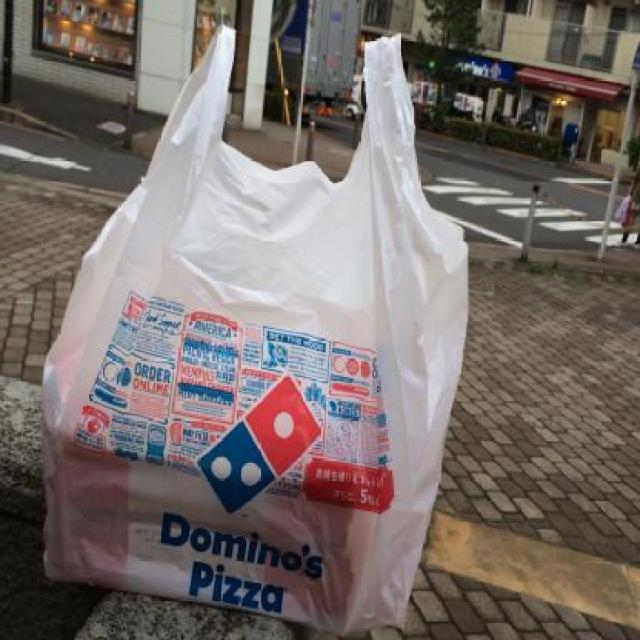plastic bag: (38, 20, 470, 638), (43, 20, 469, 635)
